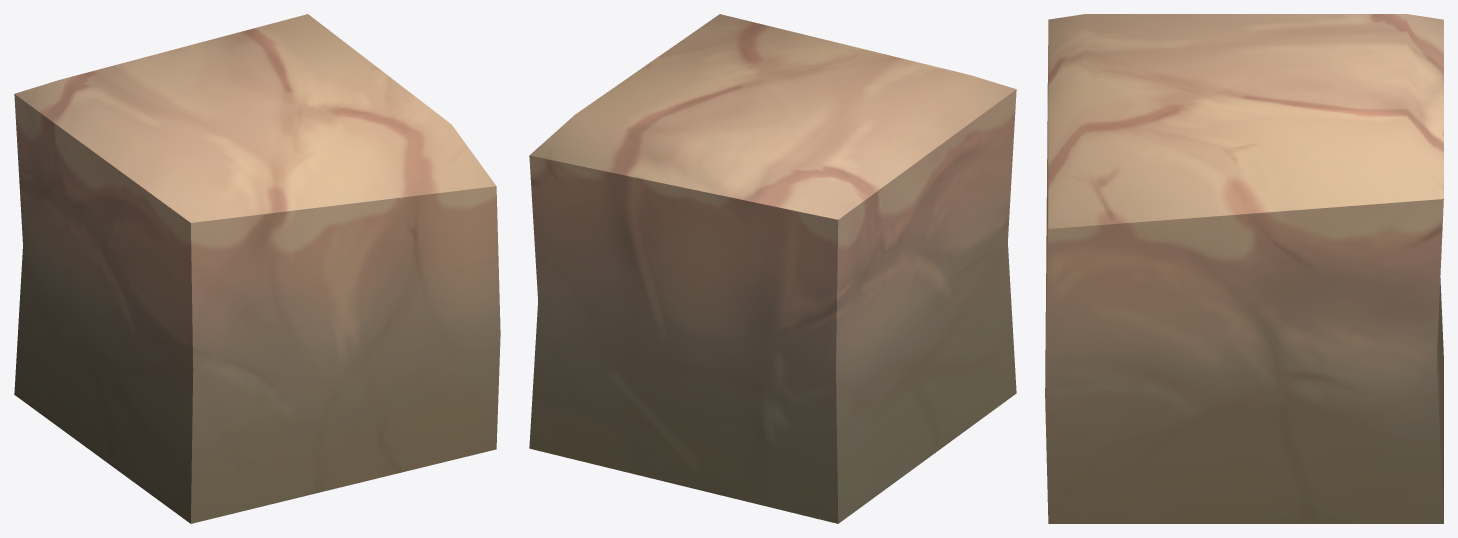
The model's file is ObstacleStone_Beach.glb.
3 renders of one model, left to right at view 1: azimuth 30°, elevation 25°; view 2: azimuth 150°, elevation 25°; view 3: azimuth 270°, elevation 25°, orthographic. The views are drawn at different scales.
Parts seen in each view (by area): view 1: Obstacle_Stone_Beach; view 2: Obstacle_Stone_Beach; view 3: Obstacle_Stone_Beach.
Part boxes in pixels (x1,y1,x2,y2): Obstacle_Stone_Beach: (14, 14, 500, 523); Obstacle_Stone_Beach: (529, 14, 1016, 523); Obstacle_Stone_Beach: (1045, 14, 1443, 523).
Size of the model in its own units: 0.5042 by 0.5083 by 0.5042.
Materials: 1 (1 with a texture image).
